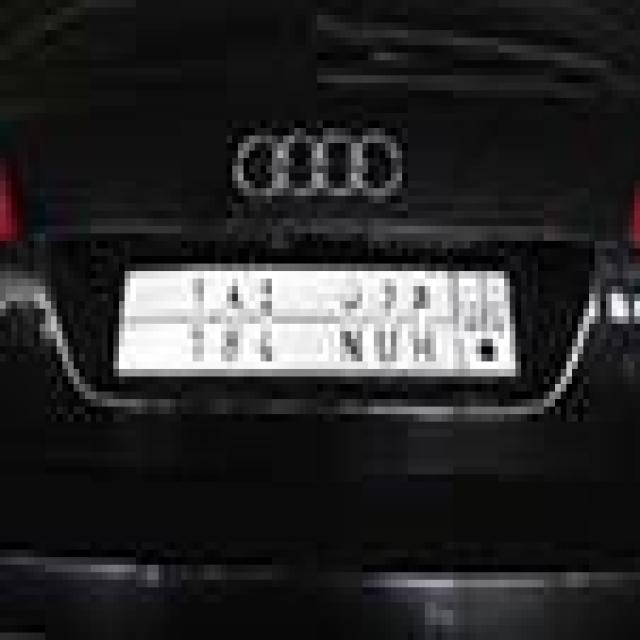license_plate: (74, 203, 555, 414)
